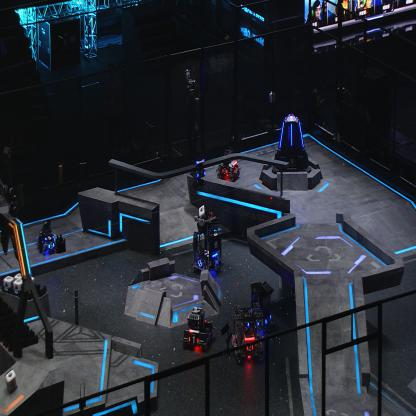car: (231, 301, 265, 363), (192, 212, 223, 273), (248, 280, 279, 333), (183, 306, 216, 350), (34, 222, 58, 255), (218, 147, 240, 182)
